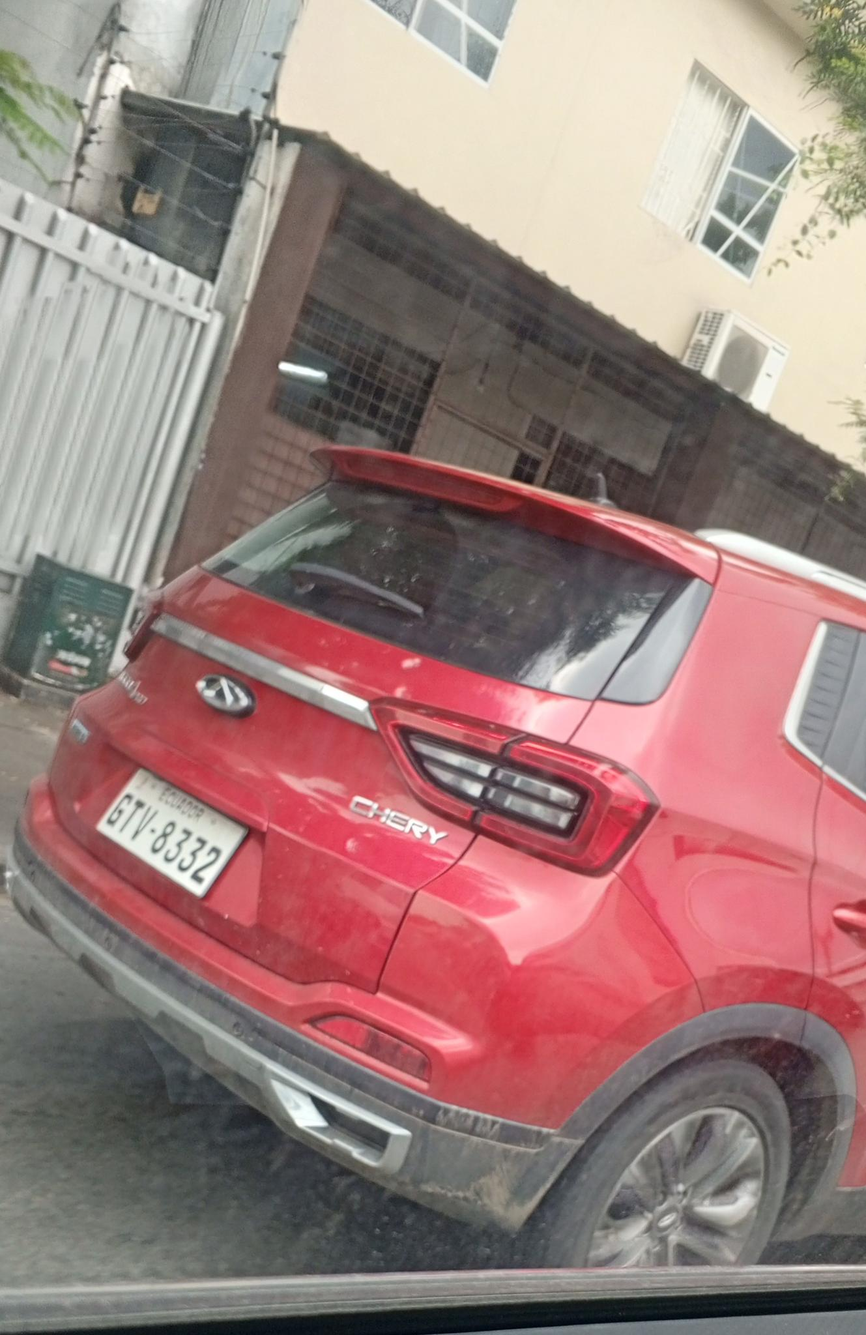license_plate: (94, 767, 247, 901)
